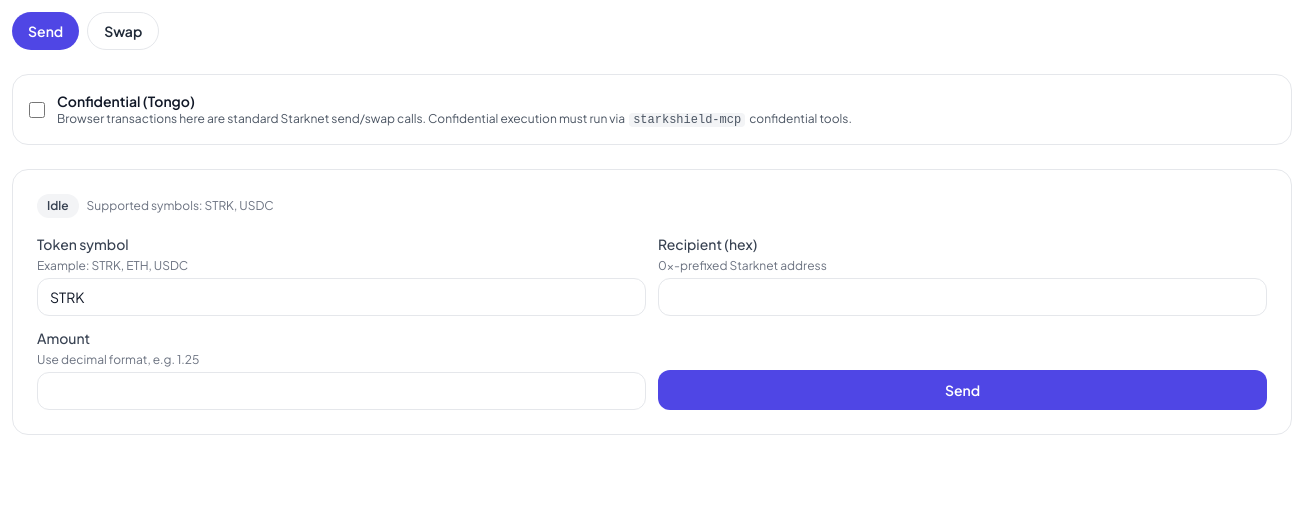
TransactPage validation › requires recipient for send flow
The width and height of the screenshot is (1292, 508).
Type "1" into the field labelled "Amount Use decimal format, e.g. 1.25" at (342, 391), box [37, 372, 646, 410]
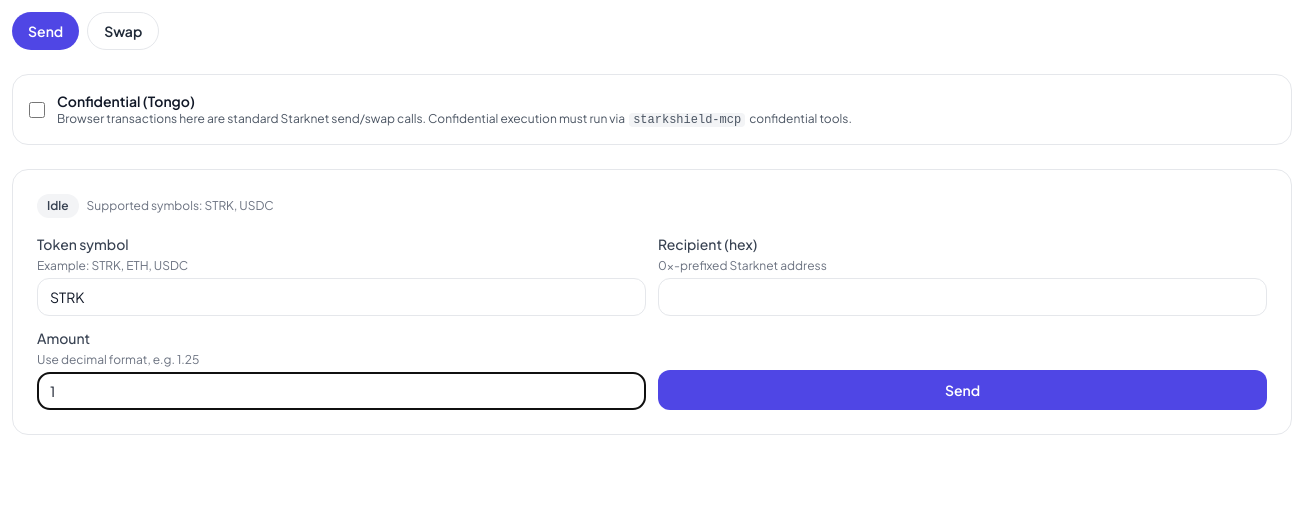
Click the button "Send" below "0x-prefixed Starknet address" at (962, 390), box [658, 370, 1267, 410]
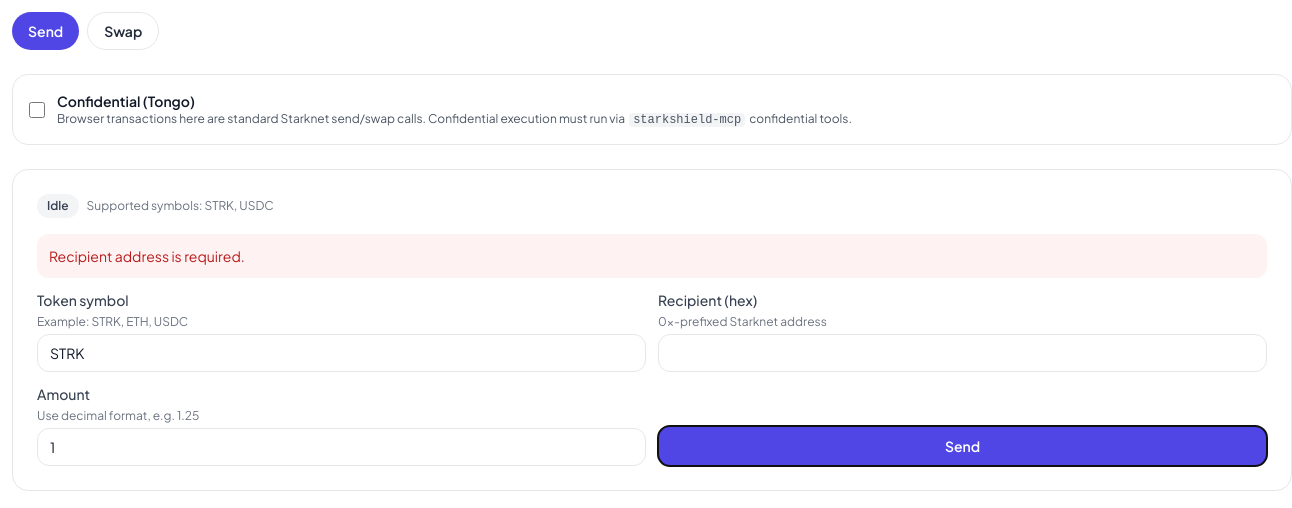
Expected: the text "Recipient address is required." is shown, [37, 234, 1267, 278]
